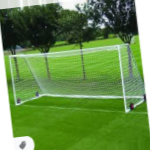goals: (8, 43, 144, 113)
